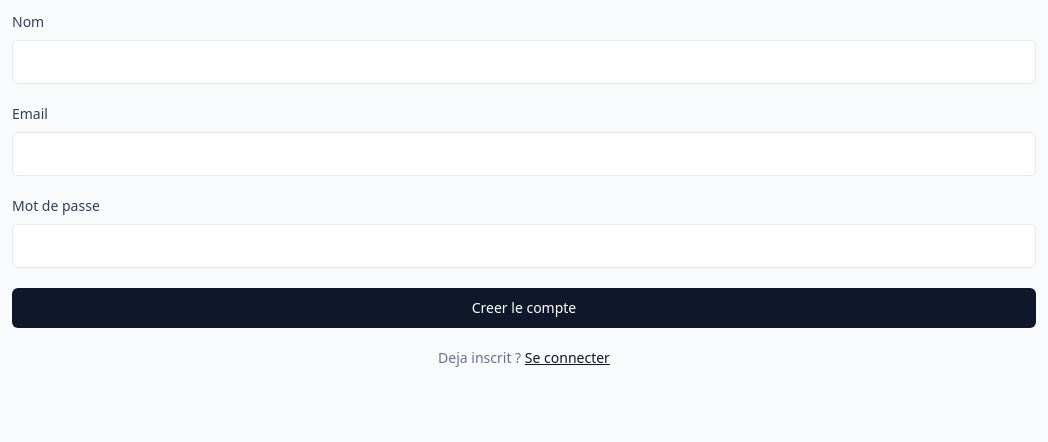
Scenario: RegisterForm - submission › shows the backend error message on failure (non-regression on result.message bug)
The image size is (1048, 442).
Type "Ada Lovelace" into the field labelled "Nom". click: (524, 62)
box: [12,40,1036,84]
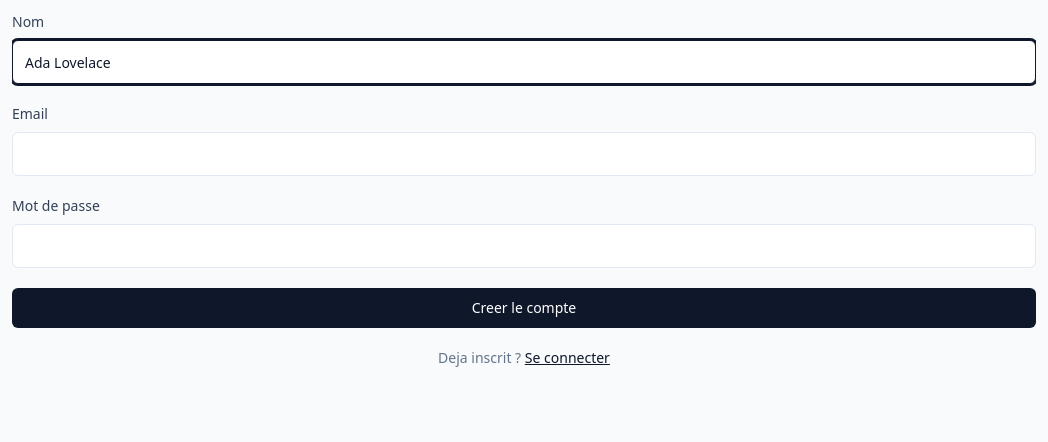
Type "ada@example.com" into the field labelled "Email". click: (524, 154)
box: [12,132,1036,176]
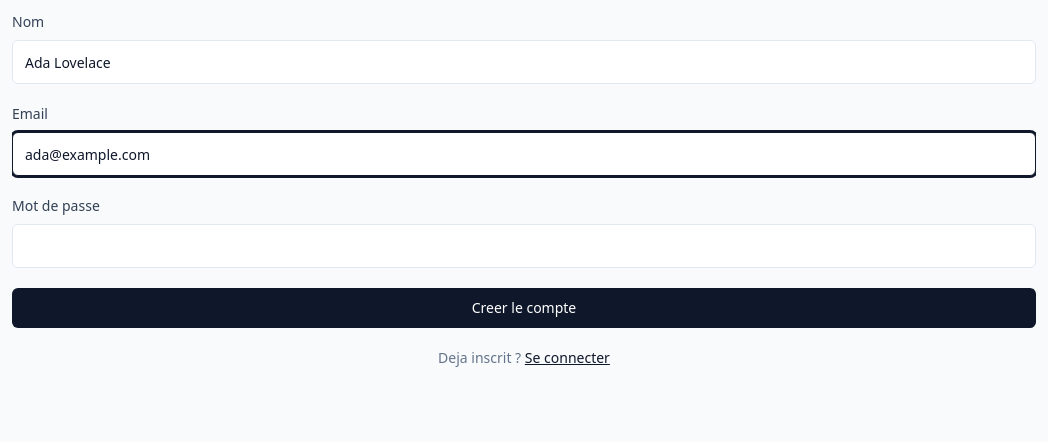
Type "SuperSecret123" into the password field labelled "Mot de passe". click: (524, 246)
box: [12,224,1036,268]
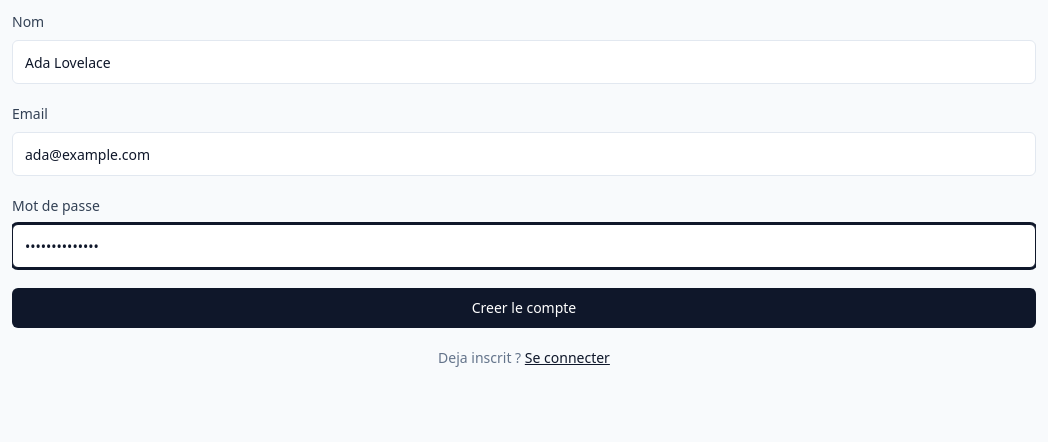
Click the button "Creer le compte". click: (524, 308)
box: [12,288,1036,328]
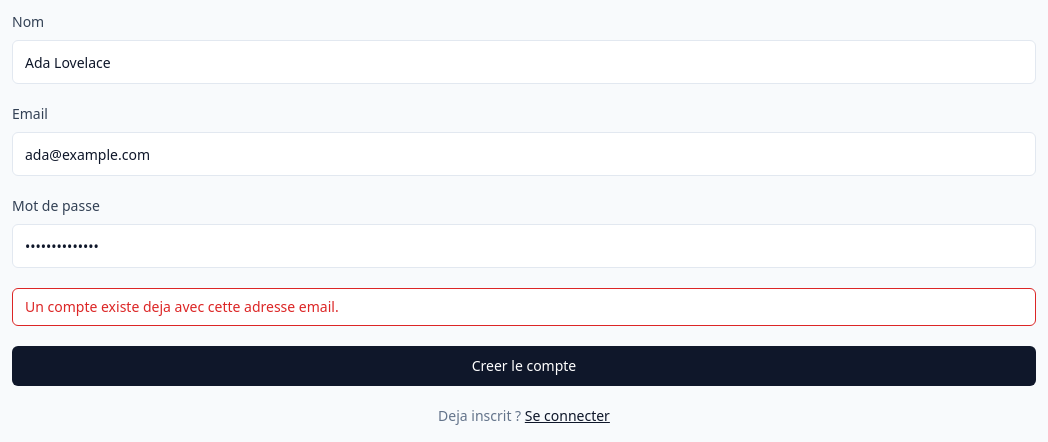
Expected: the text "Un compte existe deja avec cette adresse email." is shown, [12,288,1036,326]
